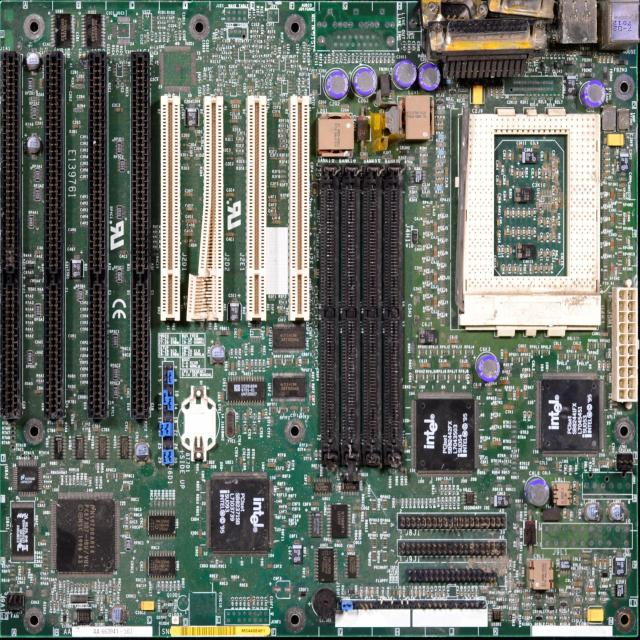Capacitor Jumper: (610, 212, 615, 227), (433, 221, 438, 236), (185, 218, 197, 224), (610, 237, 615, 251), (459, 362, 470, 368), (491, 441, 502, 447), (447, 339, 460, 344), (419, 363, 432, 368), (439, 363, 452, 368), (610, 187, 615, 200), (516, 385, 520, 401), (352, 504, 361, 511), (504, 404, 514, 410), (310, 501, 320, 507), (580, 553, 590, 559), (230, 100, 242, 105), (618, 182, 628, 188), (184, 192, 194, 198), (610, 262, 614, 277), (434, 296, 438, 310), (504, 348, 508, 362), (572, 345, 583, 350), (499, 380, 510, 385), (56, 427, 65, 433), (267, 462, 276, 468), (185, 206, 194, 212), (307, 473, 311, 486), (538, 466, 548, 471), (226, 193, 236, 198), (226, 232, 236, 237), (237, 327, 241, 339), (516, 348, 528, 352), (123, 384, 127, 396), (601, 556, 605, 568), (496, 216, 500, 228), (34, 389, 43, 394), (522, 592, 531, 597), (246, 85, 255, 90), (341, 104, 350, 109), (269, 198, 278, 203), (272, 219, 281, 224), (269, 357, 273, 368), (555, 461, 559, 472), (566, 509, 570, 520), (596, 556, 600, 567), (487, 87, 491, 98), (445, 167, 449, 178), (183, 233, 194, 237), (291, 405, 298, 411), (600, 332, 608, 337), (552, 346, 562, 350), (231, 362, 235, 372), (199, 546, 203, 556), (265, 564, 273, 569), (21, 566, 25, 576), (572, 582, 582, 586), (522, 598, 532, 602), (546, 619, 556, 623), (318, 104, 326, 109), (272, 114, 282, 118), (534, 168, 538, 178), (514, 208, 518, 218), (34, 250, 42, 255), (120, 250, 128, 255), (542, 264, 546, 274), (516, 264, 520, 274), (434, 246, 437, 259), (434, 271, 437, 284), (295, 357, 299, 366), (609, 459, 613, 468), (490, 594, 496, 600), (106, 595, 110, 604), (523, 612, 532, 616), (39, 79, 43, 88), (498, 86, 501, 98), (493, 88, 496, 100), (518, 169, 522, 178), (618, 178, 627, 182), (269, 212, 278, 216), (514, 228, 518, 237), (76, 20, 80, 29), (531, 265, 535, 274), (436, 118, 443, 123), (533, 145, 540, 150), (517, 145, 524, 150), (309, 393, 312, 404), (246, 409, 249, 420), (129, 422, 132, 433), (576, 481, 579, 492), (199, 528, 202, 539), (606, 556, 609, 567), (509, 246, 512, 257), (93, 428, 101, 432), (598, 460, 606, 464), (202, 464, 210, 468), (481, 590, 489, 594), (574, 601, 582, 605), (76, 78, 84, 82), (115, 108, 123, 112), (229, 119, 237, 123), (436, 126, 444, 130), (602, 148, 610, 152), (360, 156, 368, 160), (498, 162, 502, 170), (434, 166, 442, 170), (435, 173, 443, 177), (270, 206, 278, 210), (530, 228, 534, 236), (266, 326, 269, 336), (248, 361, 251, 371), (221, 392, 224, 402), (576, 495, 579, 505), (143, 561, 146, 571), (392, 90, 395, 100), (230, 109, 240, 112), (513, 168, 516, 178), (520, 208, 523, 218), (525, 208, 528, 218), (537, 234, 540, 244), (9, 573, 16, 577), (575, 615, 582, 619), (76, 98, 83, 102), (602, 166, 609, 170), (270, 185, 277, 189), (440, 481, 449, 484), (143, 519, 146, 528), (397, 588, 400, 597), (72, 125, 81, 128), (506, 152, 509, 161), (543, 218, 546, 227), (509, 227, 512, 236), (504, 246, 507, 255), (606, 374, 609, 382), (473, 386, 479, 390), (221, 405, 224, 413), (530, 410, 533, 418), (124, 527, 130, 531), (40, 539, 48, 542), (348, 548, 354, 552), (592, 559, 595, 567), (586, 588, 594, 591), (458, 588, 461, 596), (512, 96, 518, 100), (183, 136, 189, 140), (195, 140, 201, 144), (183, 143, 189, 147), (194, 150, 200, 154), (602, 155, 610, 158), (602, 161, 610, 164), (614, 158, 617, 166), (80, 164, 86, 168), (602, 173, 610, 176), (311, 174, 314, 182), (435, 180, 443, 183), (499, 179, 502, 187), (520, 228, 523, 236), (525, 228, 528, 236), (625, 237, 628, 245), (549, 250, 552, 258), (543, 250, 546, 258), (625, 257, 628, 265), (262, 408, 264, 419), (240, 456, 242, 467), (44, 487, 51, 490), (39, 501, 46, 504), (469, 589, 472, 596), (195, 134, 202, 137), (183, 150, 190, 153), (506, 180, 509, 187), (435, 200, 438, 207), (80, 198, 85, 202), (544, 234, 546, 244), (550, 234, 552, 244), (512, 264, 514, 274), (538, 264, 540, 274), (506, 265, 508, 275), (314, 268, 316, 278), (417, 290, 422, 294), (609, 362, 611, 371), (601, 54, 603, 63), (417, 588, 419, 597), (357, 590, 360, 596), (512, 152, 514, 161), (80, 158, 86, 161), (79, 178, 85, 181), (538, 218, 540, 227), (555, 218, 557, 227), (311, 227, 317, 230), (504, 227, 506, 236), (538, 250, 540, 259), (412, 373, 414, 381), (87, 477, 89, 485), (609, 55, 611, 63), (55, 602, 57, 610), (614, 150, 616, 158), (510, 208, 512, 216), (558, 258, 560, 266), (548, 265, 550, 273), (412, 386, 417, 389), (613, 403, 618, 406), (534, 460, 539, 463), (161, 600, 166, 603), (423, 217, 428, 220), (605, 362, 607, 369), (531, 371, 533, 378), (526, 411, 528, 418), (597, 54, 599, 61), (605, 55, 607, 62), (425, 589, 427, 596), (429, 590, 431, 597), (79, 172, 86, 174), (497, 246, 499, 253), (496, 261, 498, 268), (523, 371, 527, 374), (482, 464, 488, 466), (437, 590, 439, 596), (401, 590, 403, 596), (440, 590, 442, 596), (409, 590, 411, 596), (80, 212, 86, 214), (626, 213, 628, 219), (195, 97, 200, 99), (417, 245, 422, 247), (418, 270, 423, 272), (601, 362, 602, 369)
Resistor Jumper: (508, 602, 519, 607), (559, 593, 569, 598), (508, 593, 518, 598), (586, 566, 590, 578), (508, 610, 512, 622), (515, 610, 519, 622), (573, 588, 582, 593), (412, 360, 416, 370), (516, 511, 520, 521), (517, 538, 520, 551), (33, 574, 36, 585), (600, 581, 608, 585), (516, 526, 519, 536), (306, 566, 309, 576), (115, 580, 118, 590), (412, 343, 414, 353)
